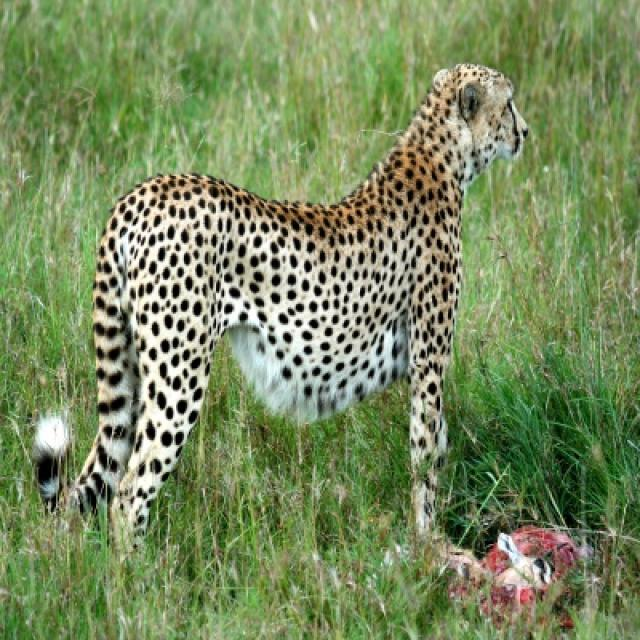Cheetah: (35, 62, 531, 560)
